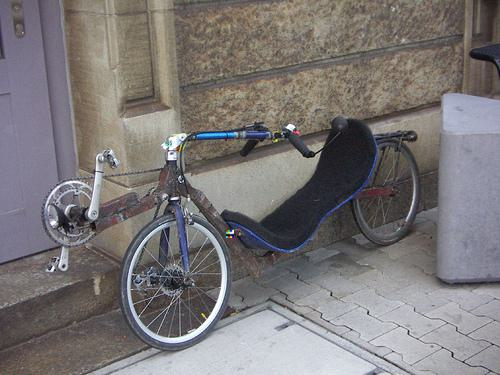car: (39, 116, 421, 353)
